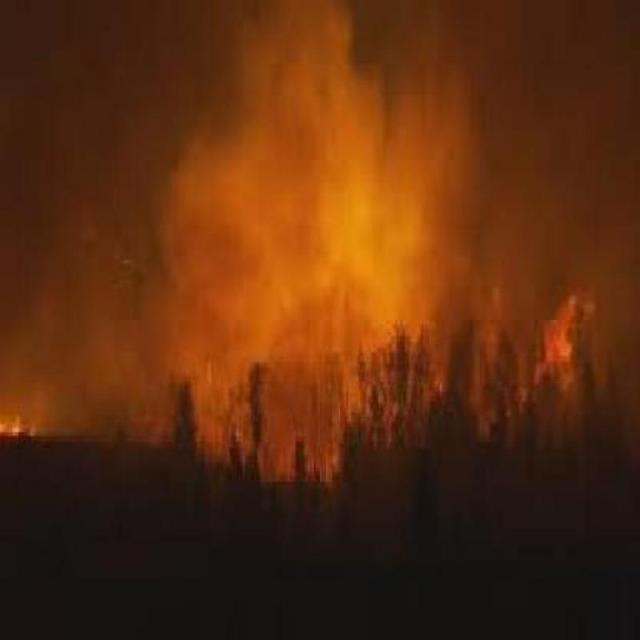Fire: (210, 247, 424, 479), (0, 398, 25, 448)
